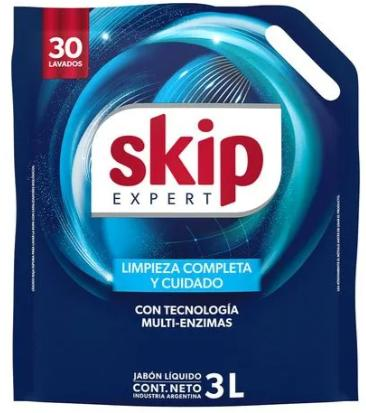brand: (101, 108, 267, 212)
extra_detail: (119, 258, 257, 295)
net_weight: (203, 358, 258, 401)
